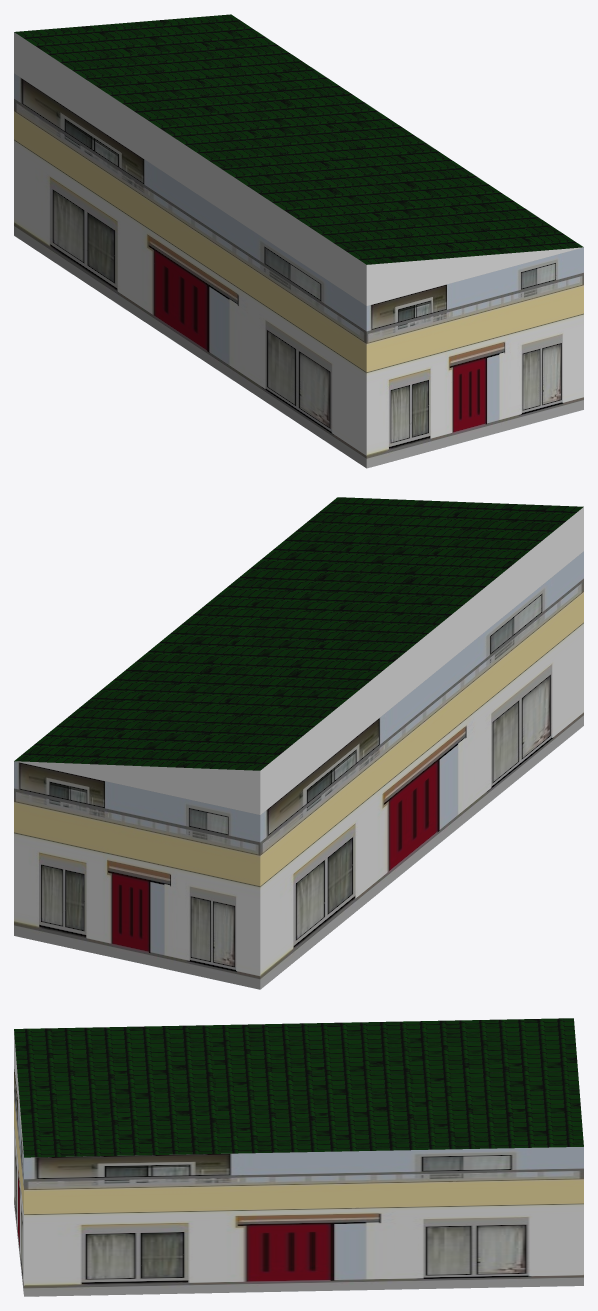
The picture shows the model from 3 angles, top to bottom: view 1: azimuth 30°, elevation 25°; view 2: azimuth 150°, elevation 25°; view 3: azimuth 270°, elevation 25°; orthographic projection. The views are drawn at different scales.
Visible parts, largest first — view 1: CityEngineMaterial_15_m, CityEngineMaterial_13_m, CityEngineMaterial_3_m; view 2: CityEngineMaterial_15_m, CityEngineMaterial_13_m, CityEngineMaterial_3_m; view 3: CityEngineMaterial_15_m, CityEngineMaterial_13_m.
Part boxes in pixels (x1,y1,x2,y2): CityEngineMaterial_15_m: [14, 73, 583, 468]; CityEngineMaterial_13_m: [14, 14, 583, 264]; CityEngineMaterial_3_m: [14, 32, 582, 305]; CityEngineMaterial_15_m: [14, 551, 583, 989]; CityEngineMaterial_13_m: [14, 497, 583, 770]; CityEngineMaterial_3_m: [15, 507, 583, 814]; CityEngineMaterial_15_m: [14, 1066, 583, 1296]; CityEngineMaterial_13_m: [14, 1018, 583, 1157].
Bounding box in the file's own units: 12.47 × 9.75 × 28.86.
